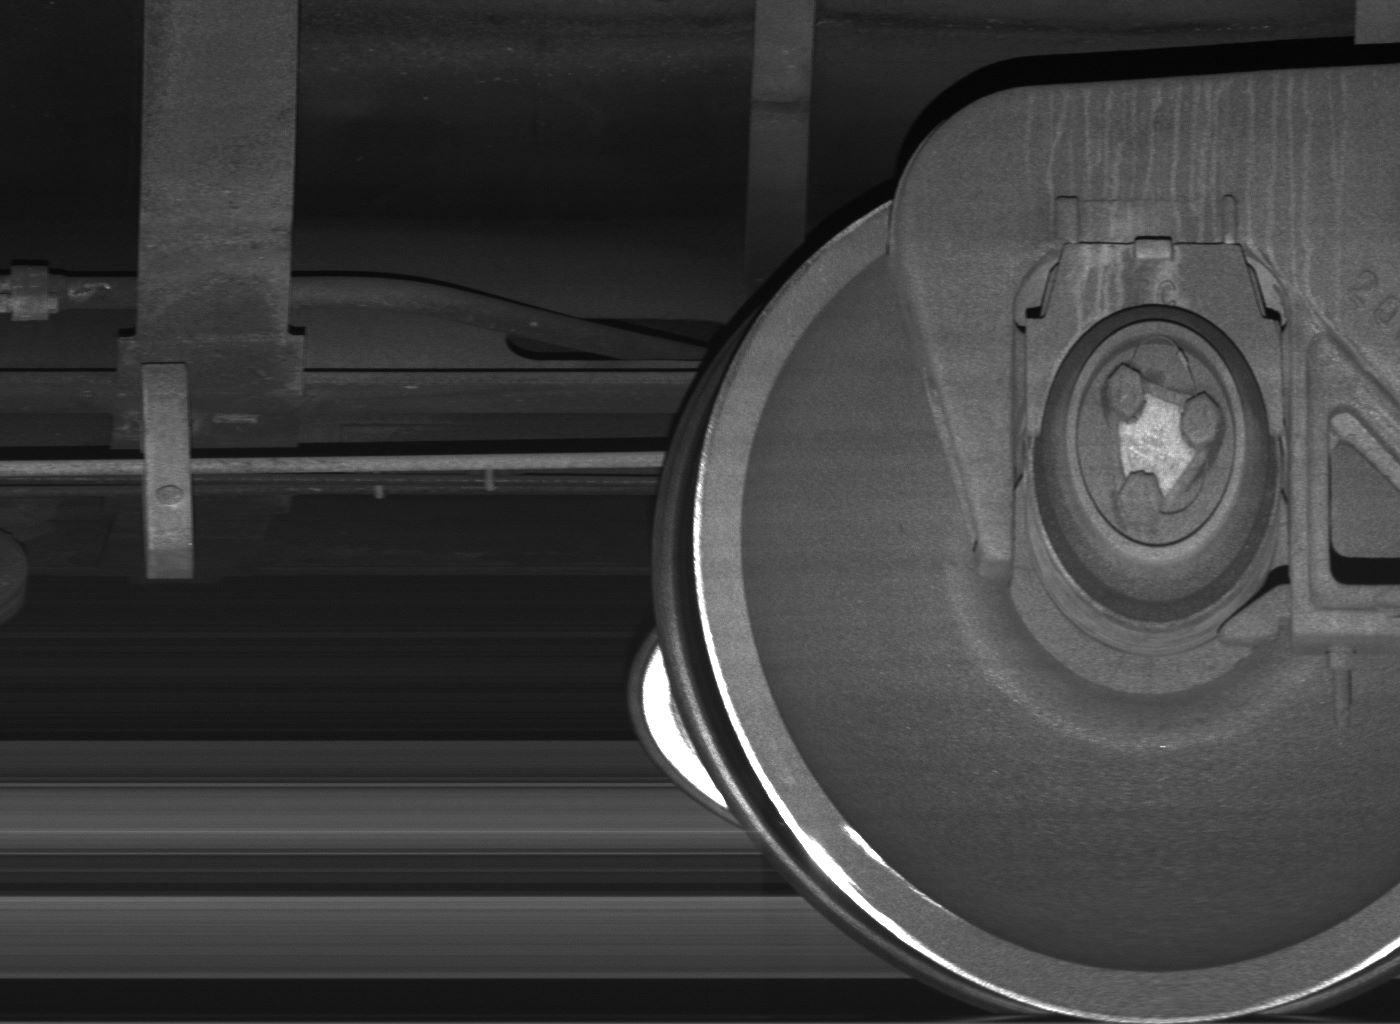normal: (142, 363, 195, 580)
